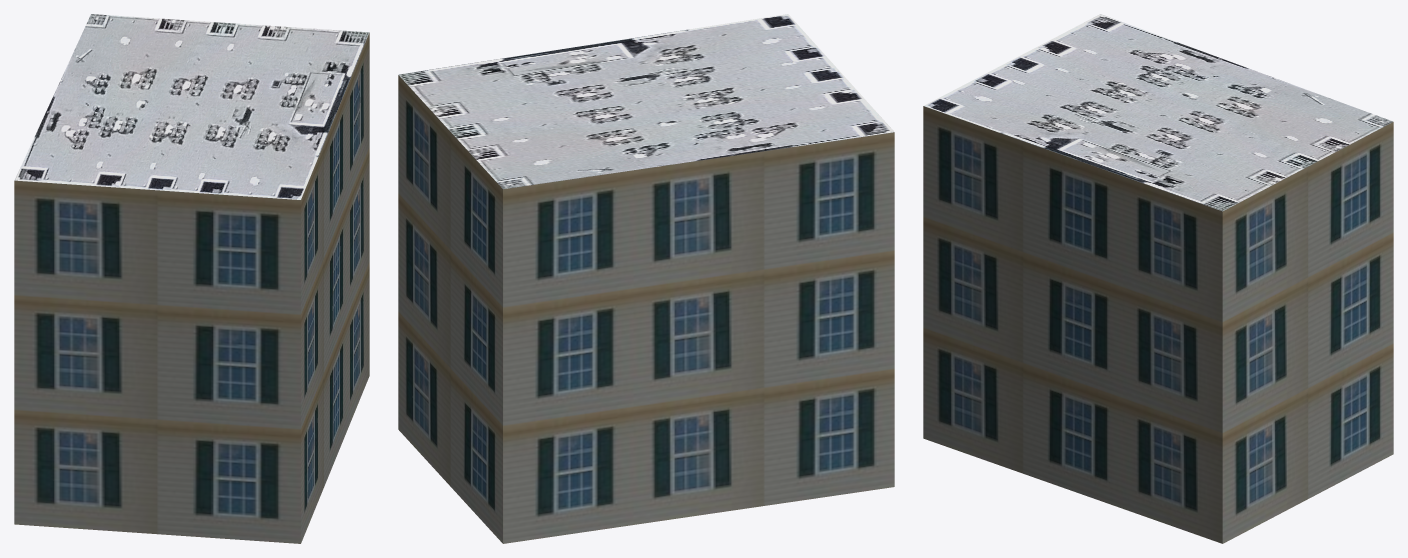
File: ResTex__2154.fbx
3 views of the same model, side by side, from view 1: azimuth 30°, elevation 25°; view 2: azimuth 150°, elevation 25°; view 3: azimuth 270°, elevation 25° (orthographic). The views are drawn at different scales.
Parts seen in each view (by area): view 1: CityEngineMaterial_7_m, CityEngineMaterial_8_m; view 2: CityEngineMaterial_7_m, CityEngineMaterial_8_m; view 3: CityEngineMaterial_7_m, CityEngineMaterial_8_m.
Boxes of the visible parts, x1=… form: CityEngineMaterial_7_m: x1=14, y1=32, x2=369, y2=543; CityEngineMaterial_8_m: x1=14, y1=14, x2=369, y2=199; CityEngineMaterial_7_m: x1=398, y1=75, x2=894, y2=543; CityEngineMaterial_8_m: x1=398, y1=14, x2=894, y2=188; CityEngineMaterial_7_m: x1=923, y1=106, x2=1393, y2=543; CityEngineMaterial_8_m: x1=924, y1=14, x2=1392, y2=211.
Size of the model in its own units: 11.45 by 9 by 11.53.
2 materials, 2 textured.
